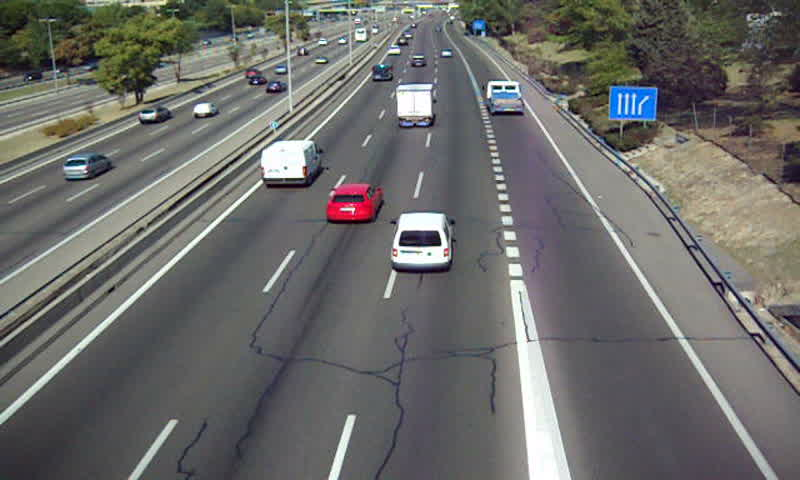car: (389, 212, 455, 272), (323, 184, 383, 223), (410, 54, 427, 69)
small-truck: (396, 82, 435, 125), (485, 79, 523, 115)
van: (259, 140, 321, 188), (370, 64, 393, 84)
